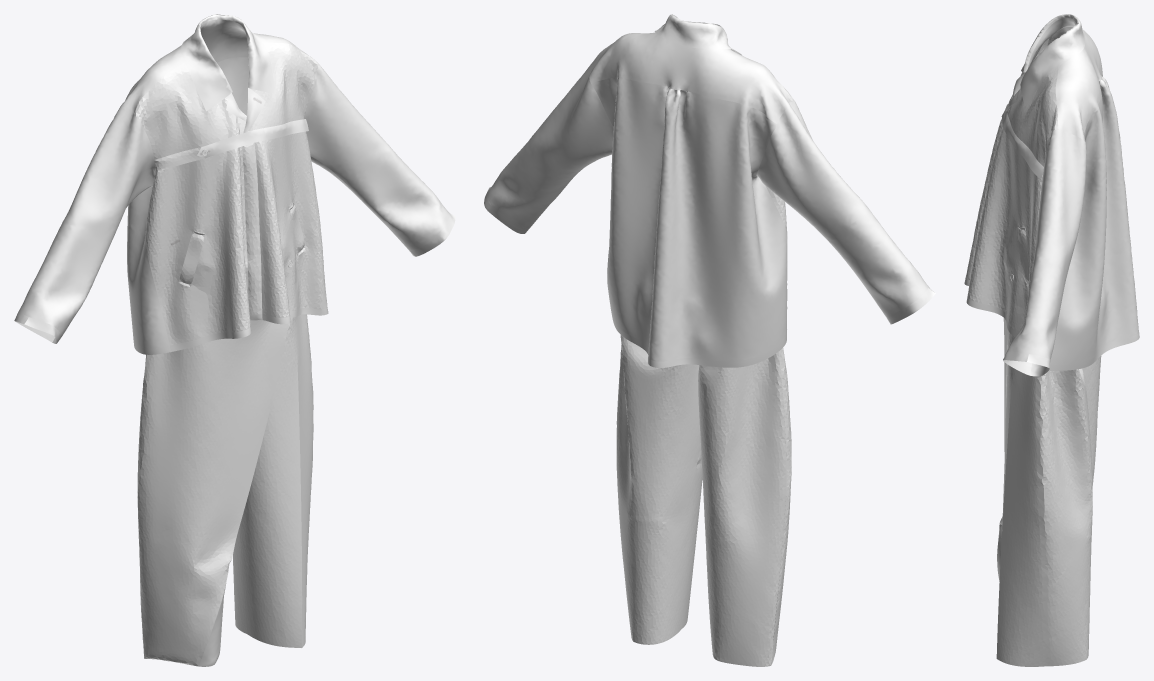
The model's file is CharaM.glb.
3 views of the same model, side by side, from view 1: azimuth 30°, elevation 25°; view 2: azimuth 150°, elevation 25°; view 3: azimuth 270°, elevation 25° (orthographic). The views are drawn at different scales.
Visible parts, largest first — view 1: Cloth; view 2: Cloth; view 3: Cloth.
Part boxes in pixels (x1,y1,x2,y2): Cloth: [14, 14, 455, 666]; Cloth: [484, 14, 935, 666]; Cloth: [964, 14, 1139, 666].
Bounding box in the file's own units: 1.12 × 1.52 × 0.3909.
Materials: 4 (2 with a texture image).
